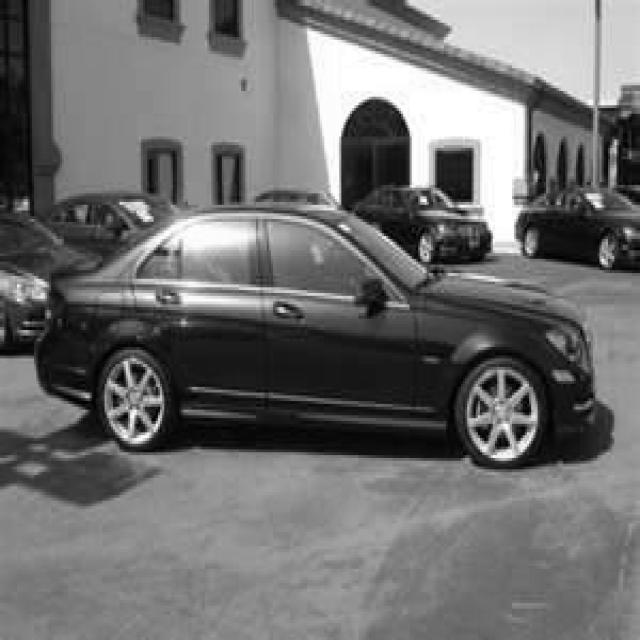car: (32, 196, 595, 466), (350, 182, 491, 265), (514, 182, 638, 270), (32, 188, 183, 259)
